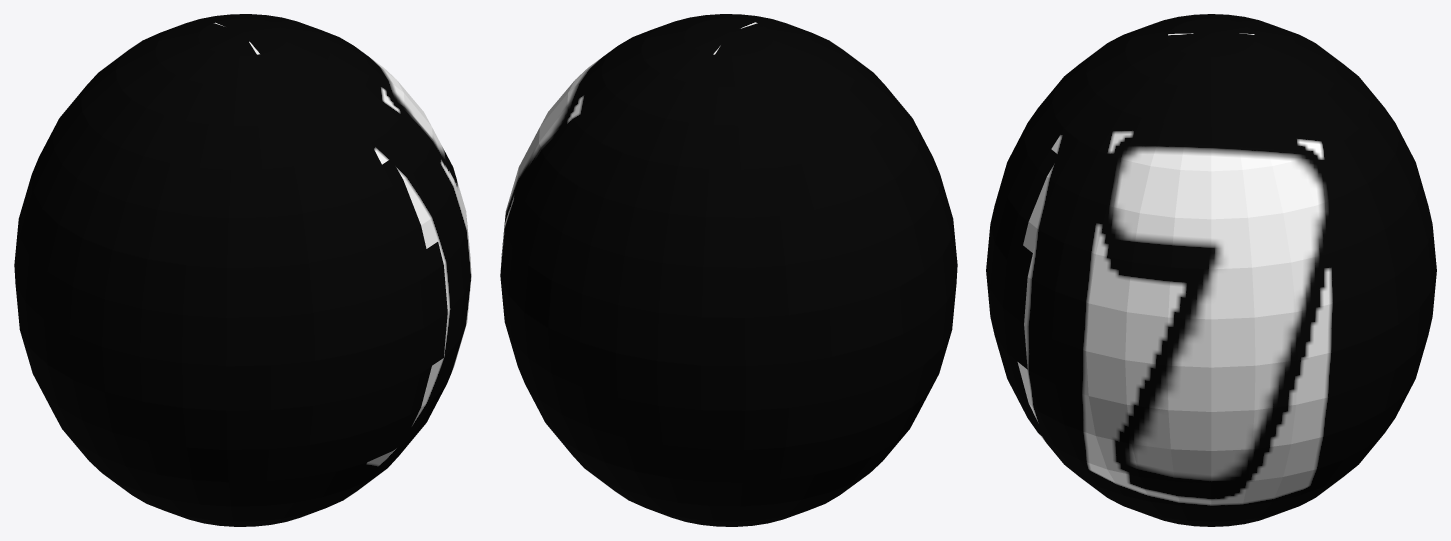
Rendered from heand7.fbx.
3 views of the same model, side by side, from view 1: azimuth 30°, elevation 25°; view 2: azimuth 150°, elevation 25°; view 3: azimuth 270°, elevation 25° (orthographic).
Visible parts, largest first — view 1: Sphere; view 2: Sphere; view 3: Sphere.
Boxes of the visible parts, <box> form: Sphere: <box>14,14,471,526</box>; Sphere: <box>500,14,957,526</box>; Sphere: <box>986,14,1436,526</box>.
Bounding box in the file's own units: 15.08 × 17.19 × 14.8.
